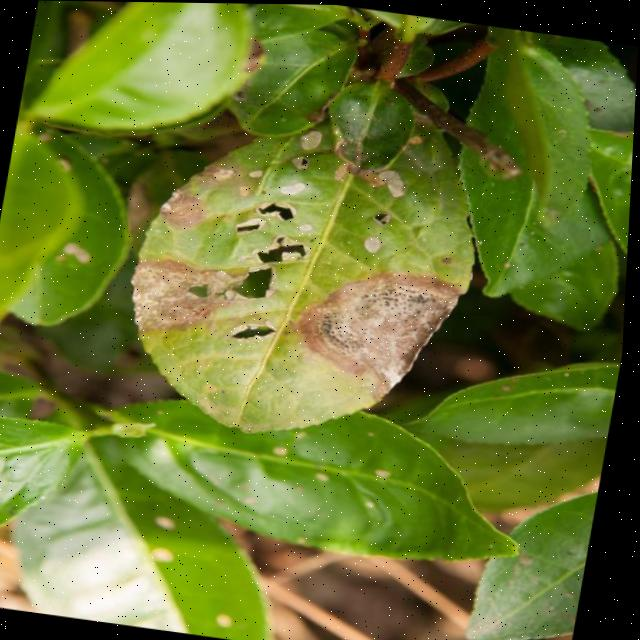Tea cloud leaf blight: (117, 151, 310, 353), (293, 256, 489, 398), (267, 119, 421, 252)
